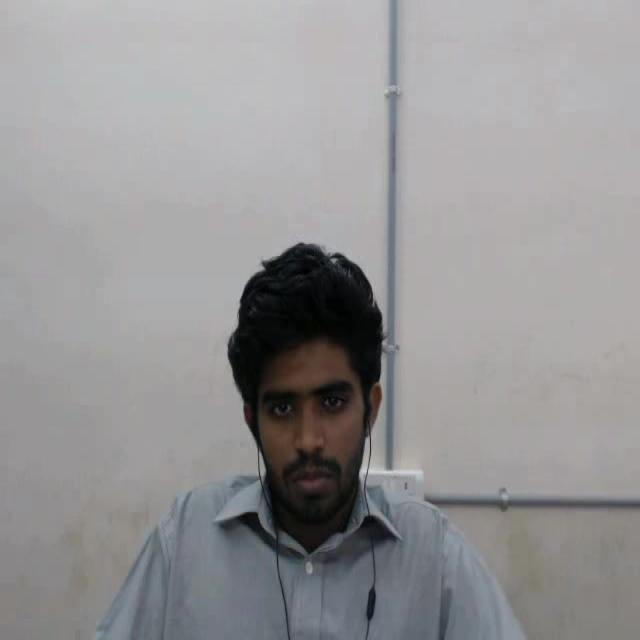Engaged: (211, 226, 420, 574)
